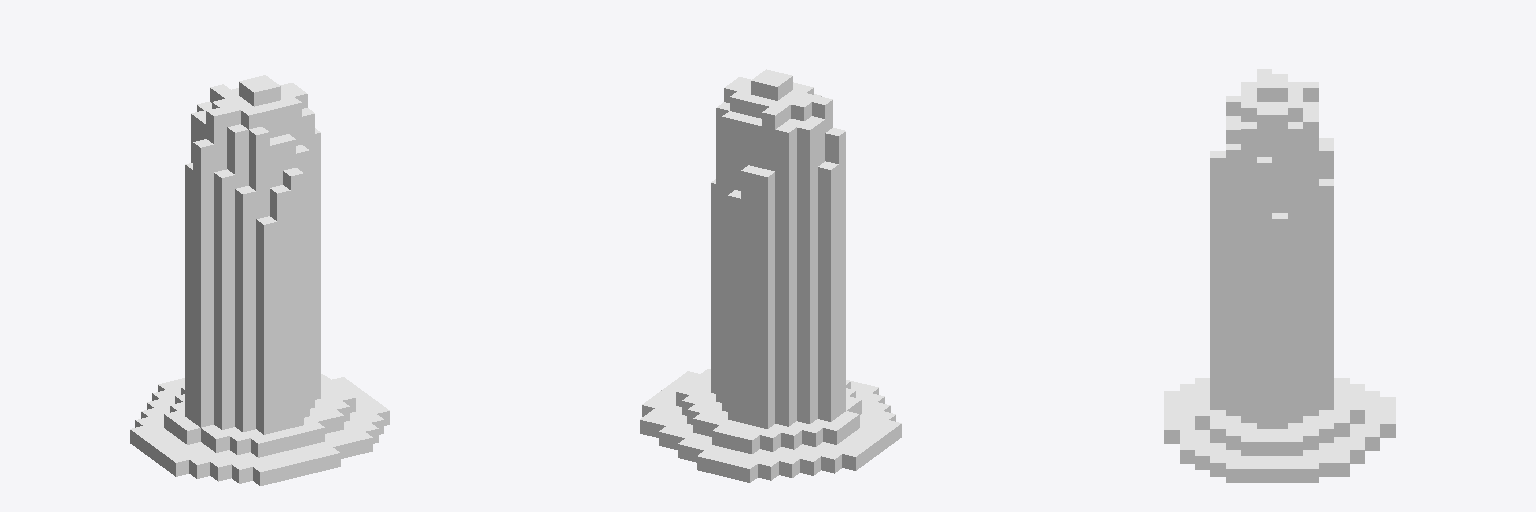
File: bougie.obj
The picture shows the model from 3 angles: view 1: azimuth 30°, elevation 25°; view 2: azimuth 150°, elevation 25°; view 3: azimuth 270°, elevation 25°; orthographic projection.
Visible parts, largest first — view 1: bougie; view 2: bougie; view 3: bougie.
Boxes of the visible parts, x1=… form: bougie: x1=130, y1=75, x2=389, y2=485; bougie: x1=640, y1=69, x2=901, y2=482; bougie: x1=1164, y1=69, x2=1395, y2=482.
Size of the model in its own units: 16 by 25 by 15.